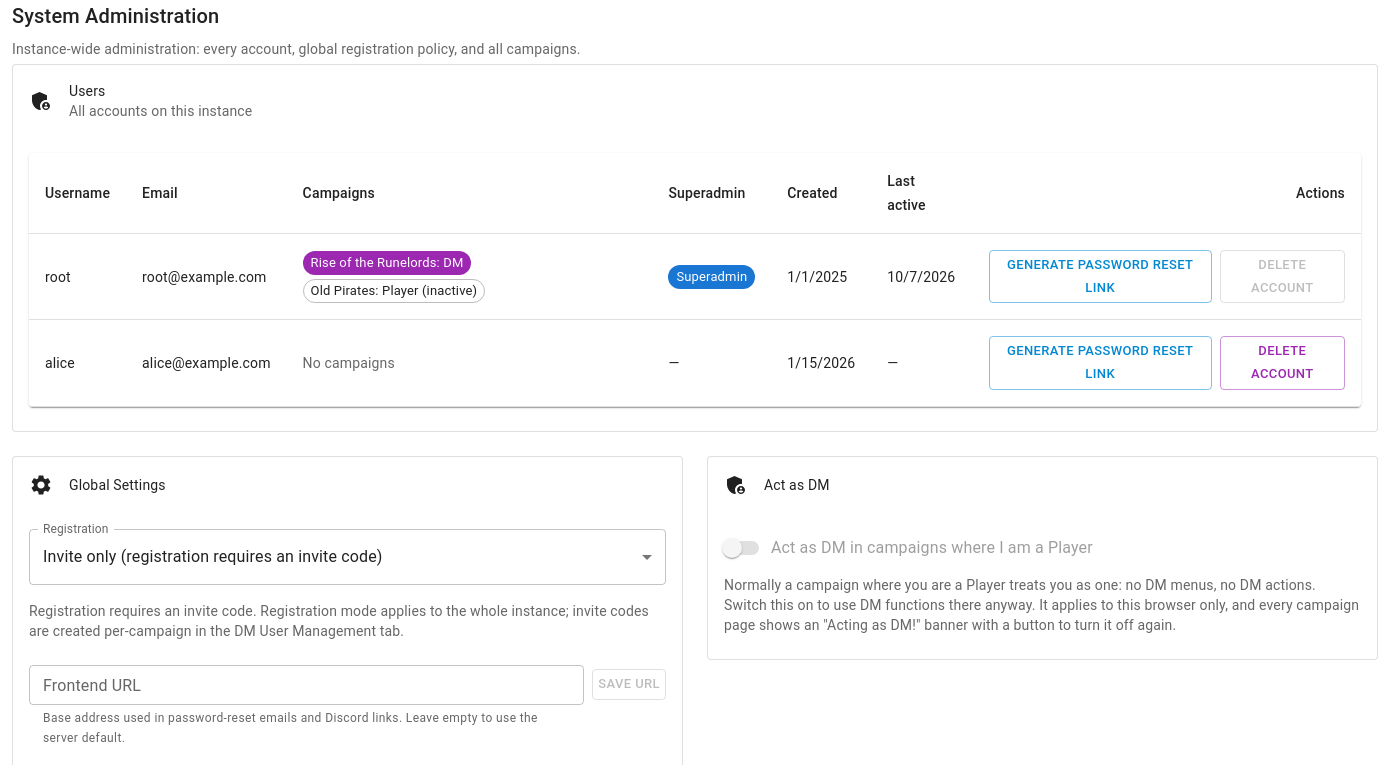
it: SystemAdmin › Users section › surfaces a snackbar error when reset-link generation fails
Check: the text "alice" is shown, box top-left (29, 320), bottom-right (126, 406)
What coordinates should you click on to do the following:
click the button "Generate password reset link" in the row of "alice@example.com"
I would click on:
 (1100, 363)
Its box is top-left (989, 336), bottom-right (1212, 390).
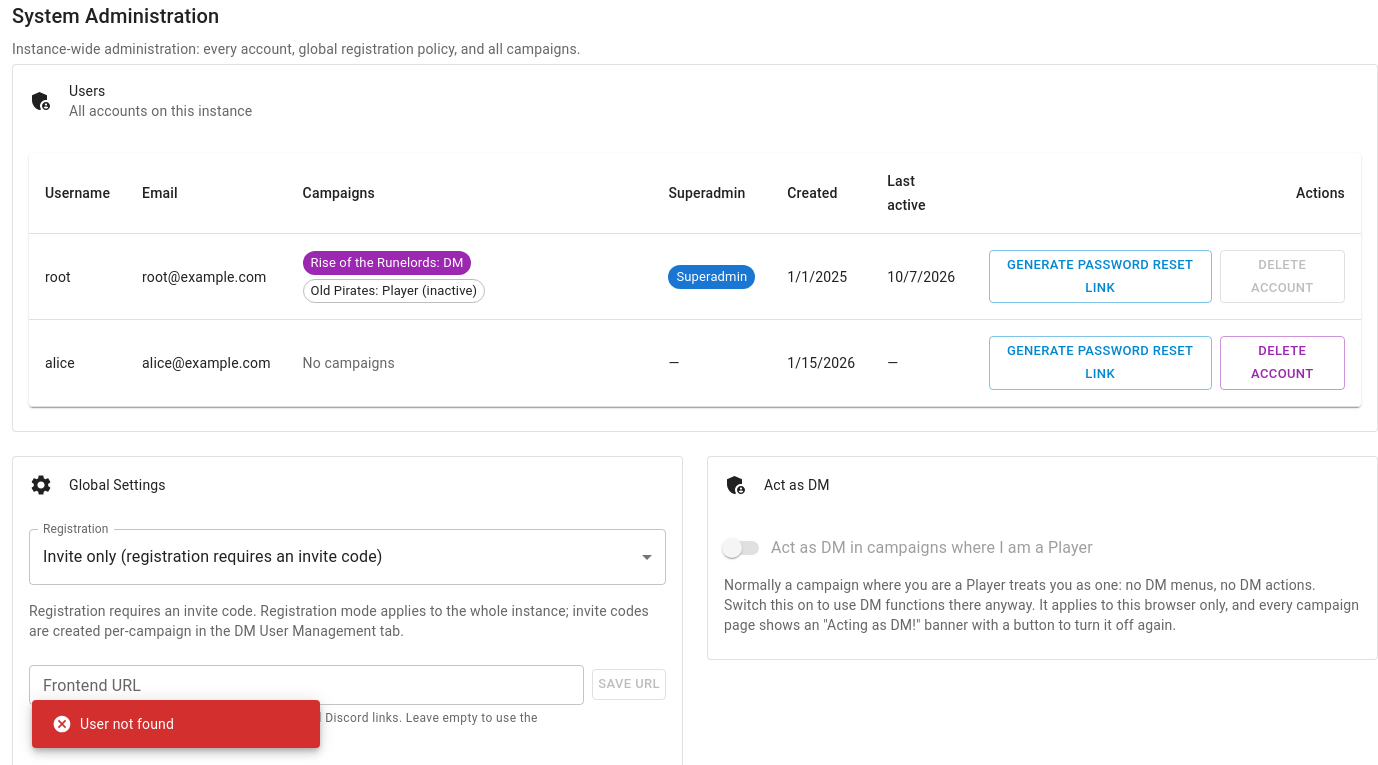
Check: the text "User not found" is shown, box top-left (52, 714), bottom-right (174, 734)
